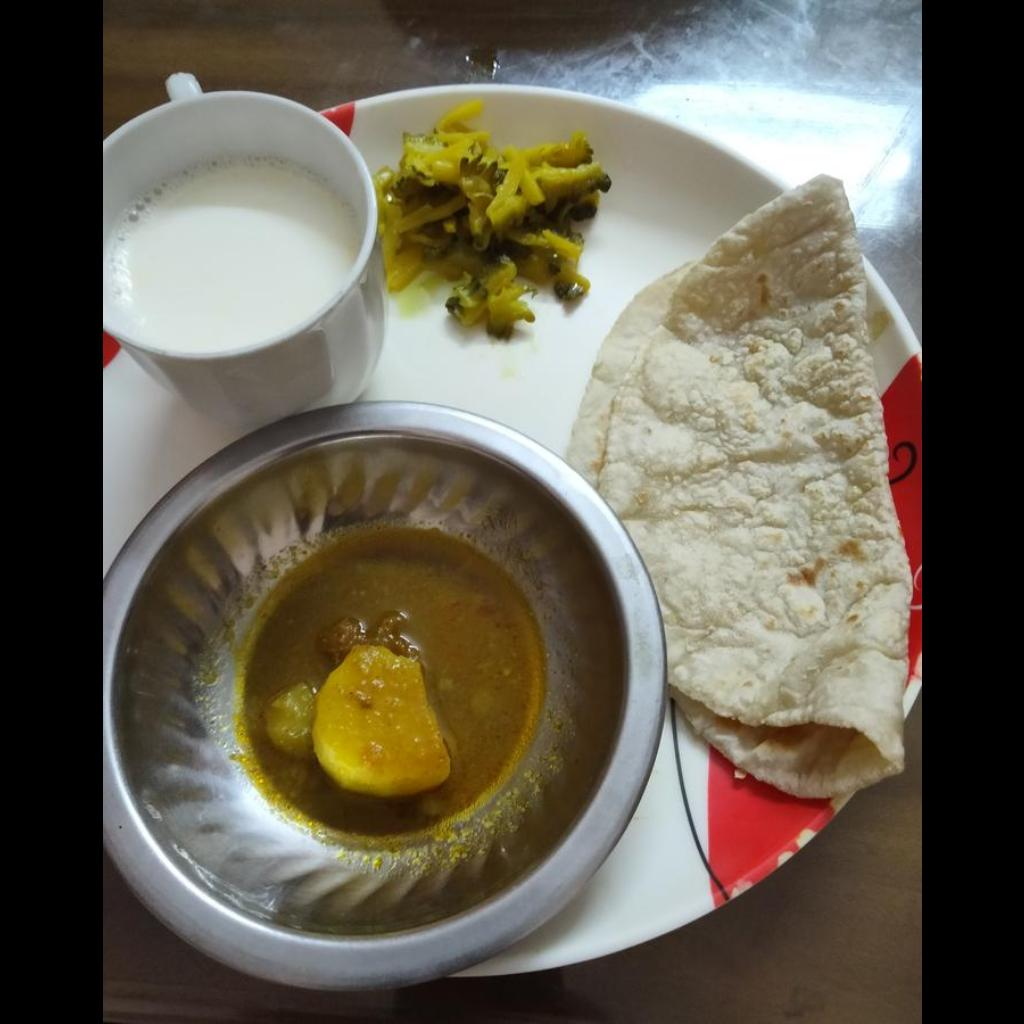milk: (113, 155, 362, 351)
potato: (310, 645, 447, 796)
ruti: (566, 175, 913, 801)
vaji: (377, 100, 607, 337)
